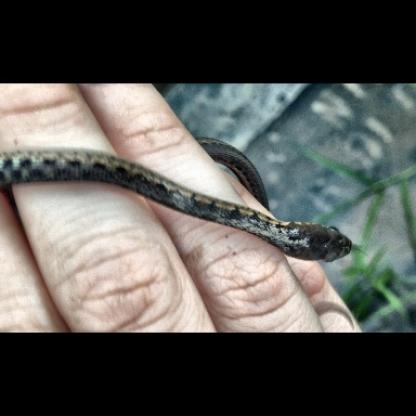Snake: (0, 141, 358, 271)
